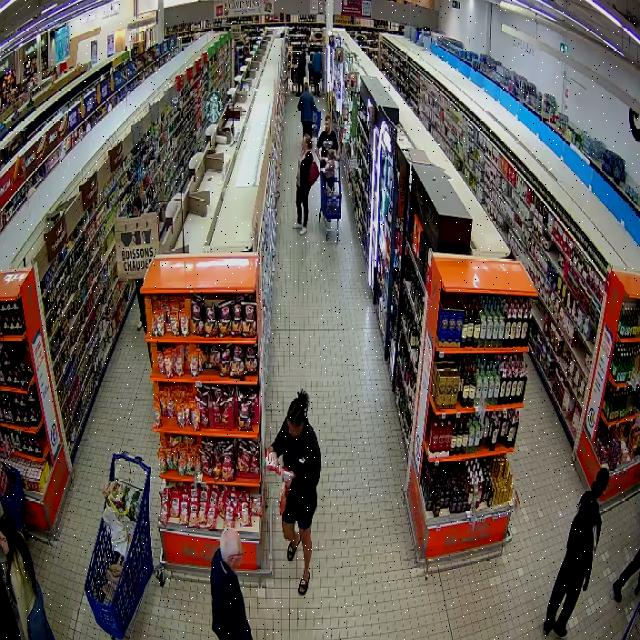article: (265, 448, 280, 474), (280, 483, 287, 514), (281, 467, 297, 479)
bags: (308, 160, 319, 187)
hands: (284, 475, 292, 490), (266, 446, 274, 455), (583, 579, 589, 591)
person: (266, 389, 321, 594), (544, 468, 607, 637), (0, 513, 55, 639), (211, 528, 252, 639), (295, 133, 314, 234)
